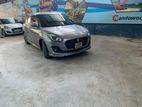car: (23, 12, 92, 57), (0, 16, 23, 37)
